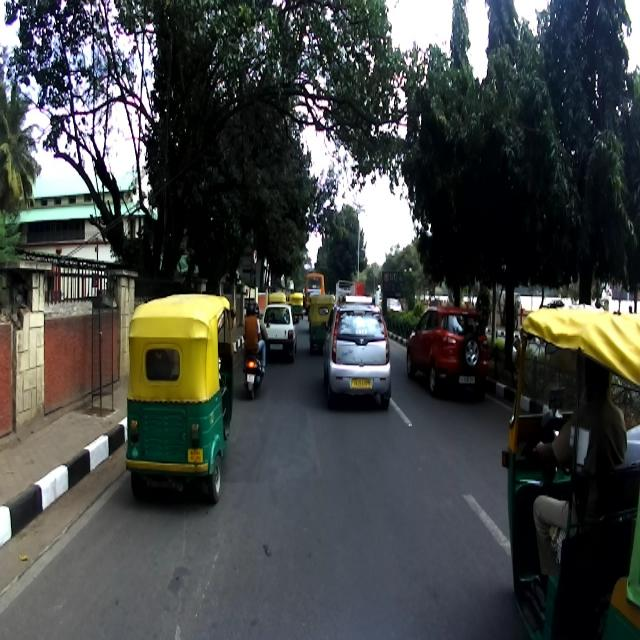autorickshaw: (502, 307, 640, 639), (126, 294, 236, 504)
car: (321, 293, 392, 410), (406, 302, 490, 399), (259, 302, 299, 362)
scooter: (242, 321, 270, 399)
